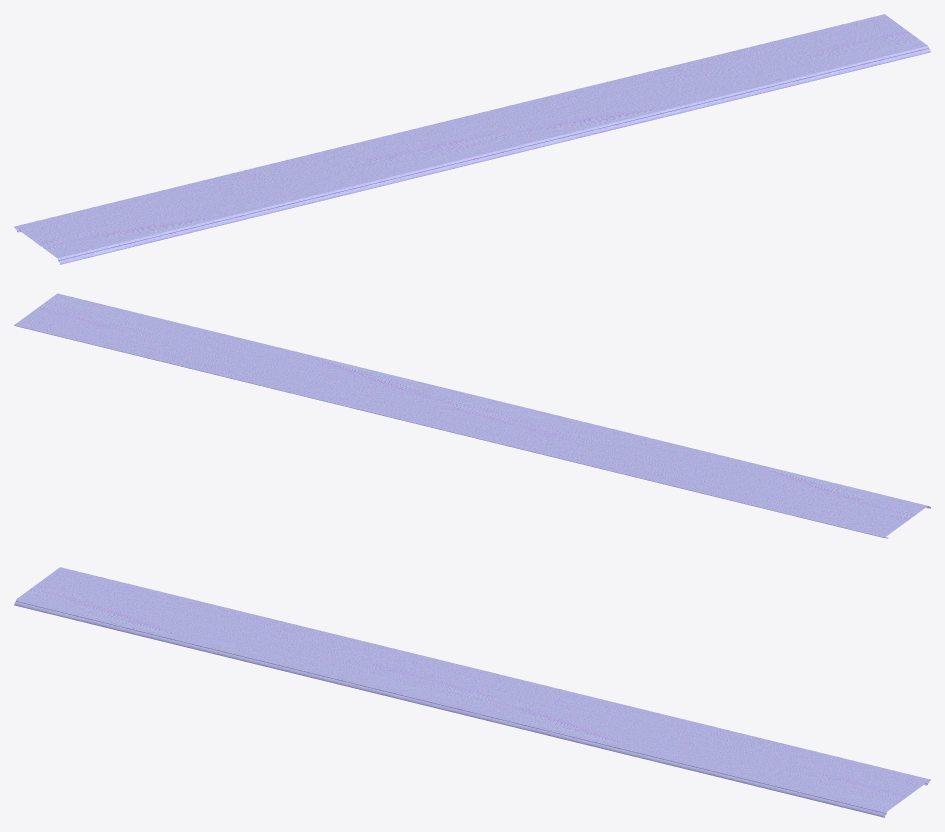
File: fdsafdsafdsa.glb
The picture shows the model from 3 angles, top to bottom: view 1: azimuth 30°, elevation 25°; view 2: azimuth 150°, elevation 25°; view 3: azimuth 330°, elevation 25°; orthographic projection.
Parts seen in each view (by area): view 1: FSK-40_External-sheet_FSK-40-Ext_V_Flat_460-mesh; view 2: FSK-40_External-sheet_FSK-40-Ext_V_Flat_460-mesh; view 3: FSK-40_External-sheet_FSK-40-Ext_V_Flat_460-mesh.
Boxes of the visible parts, box(x1,y1,x2,y2) form: FSK-40_External-sheet_FSK-40-Ext_V_Flat_460-mesh: box(14, 14, 930, 264); FSK-40_External-sheet_FSK-40-Ext_V_Flat_460-mesh: box(14, 293, 930, 538); FSK-40_External-sheet_FSK-40-Ext_V_Flat_460-mesh: box(14, 567, 930, 817).
Size of the model in its own units: 52.4 by 0.26 by 4.83.
Materials: 1 (1 with a texture image).
